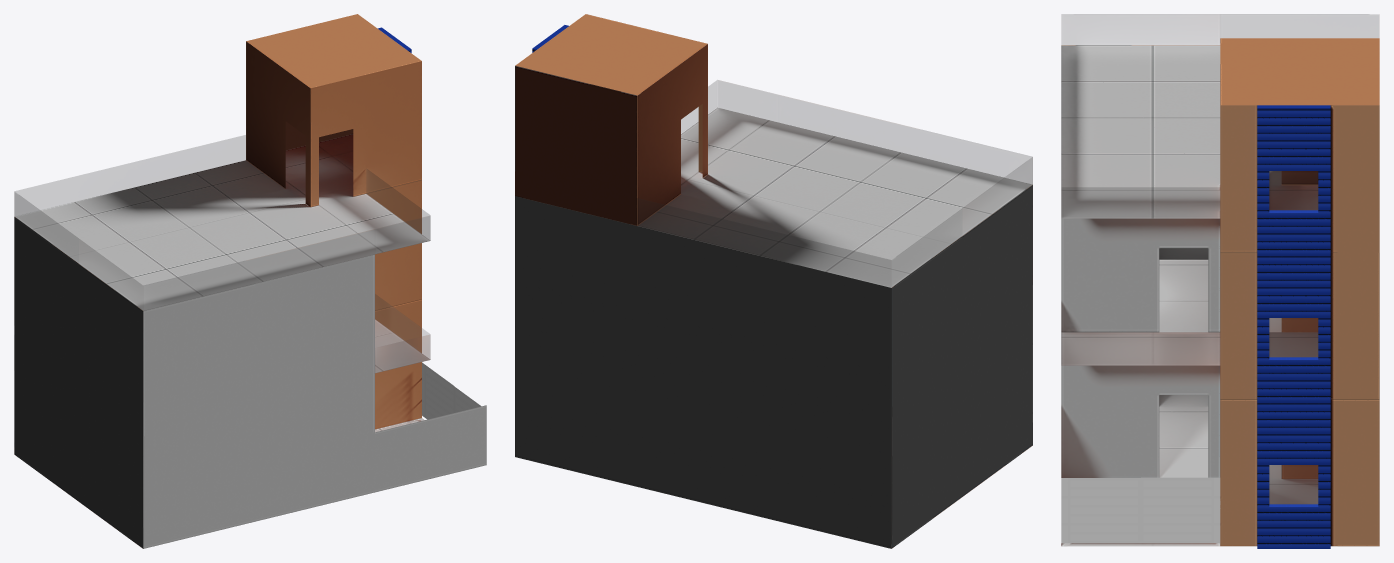
File: sideHouseBaked.glb
3 renders of one model, left to right at view 1: azimuth 30°, elevation 25°; view 2: azimuth 150°, elevation 25°; view 3: azimuth 270°, elevation 25°, orthographic. The views are drawn at different scales.
Visible parts, largest first — view 1: Bounds, room7, room6, room3, 1stFloor, Gate2; view 2: Bounds, room7; view 3: Bounds, BlueStrip, room7, room6, room3, balconyWall, groundWall, 1stFloor, Gate2, Gate1.
Part boxes in pixels (<box>): Bounds: <box>14,134,486,548</box>; room7: <box>246,14,421,207</box>; room6: <box>366,180,421,310</box>; room3: <box>375,299,421,429</box>; 1stFloor: <box>375,294,430,373</box>; Gate2: <box>422,362,454,419</box>; Bounds: <box>515,80,1032,548</box>; room7: <box>515,14,707,225</box>; Bounds: <box>1061,14,1379,546</box>; BlueStrip: <box>1257,105,1330,548</box>; room7: <box>1220,38,1379,252</box>; room6: <box>1220,252,1379,399</box>; room3: <box>1220,399,1379,546</box>; balconyWall: <box>1061,218,1220,332</box>; groundWall: <box>1061,365,1220,477</box>; 1stFloor: <box>1061,248,1318,365</box>; Gate2: <box>1141,477,1220,543</box>; Gate1: <box>1061,478,1140,543</box>.
Size of the model in its own units: 12.34 by 12.12 by 7.92.
Materials: 6 (6 with a texture image).
